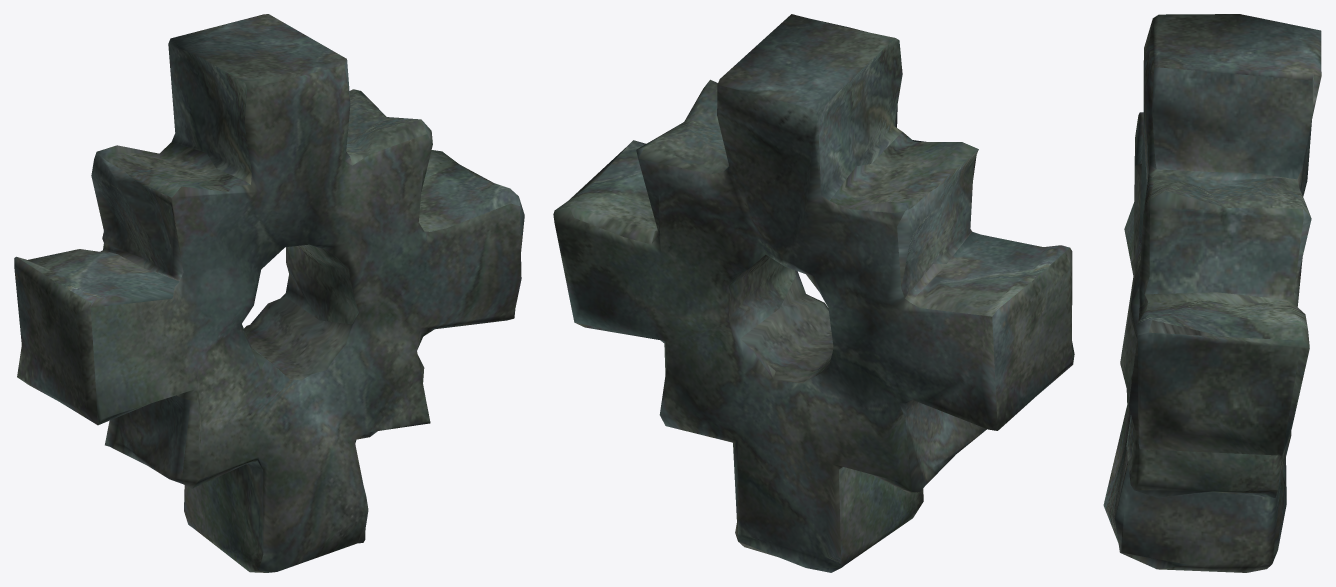
File: chakana-roca.glb
The picture shows the model from 3 angles, left to right: view 1: azimuth 30°, elevation 25°; view 2: azimuth 150°, elevation 25°; view 3: azimuth 270°, elevation 25°; orthographic projection. The views are drawn at different scales.
Parts seen in each view (by area): view 1: chacana.001; view 2: chacana.001; view 3: chacana.001.
Boxes of the visible parts, bbox=[...] form: chacana.001: bbox=[14, 14, 524, 572]; chacana.001: bbox=[553, 14, 1074, 572]; chacana.001: bbox=[1103, 14, 1321, 572].
Bounding box in the file's own units: 12.56 × 13.33 × 5.19.
Materials: 1 (1 with a texture image).
